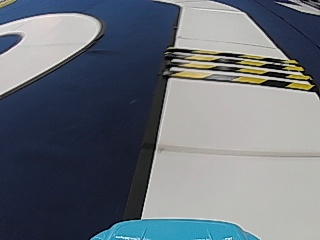bump: (181, 48, 286, 89)
